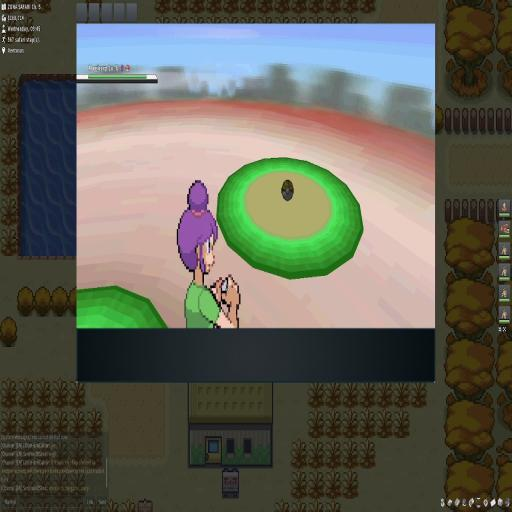SUCESSFULCAPTURE: (281, 179, 294, 201)
